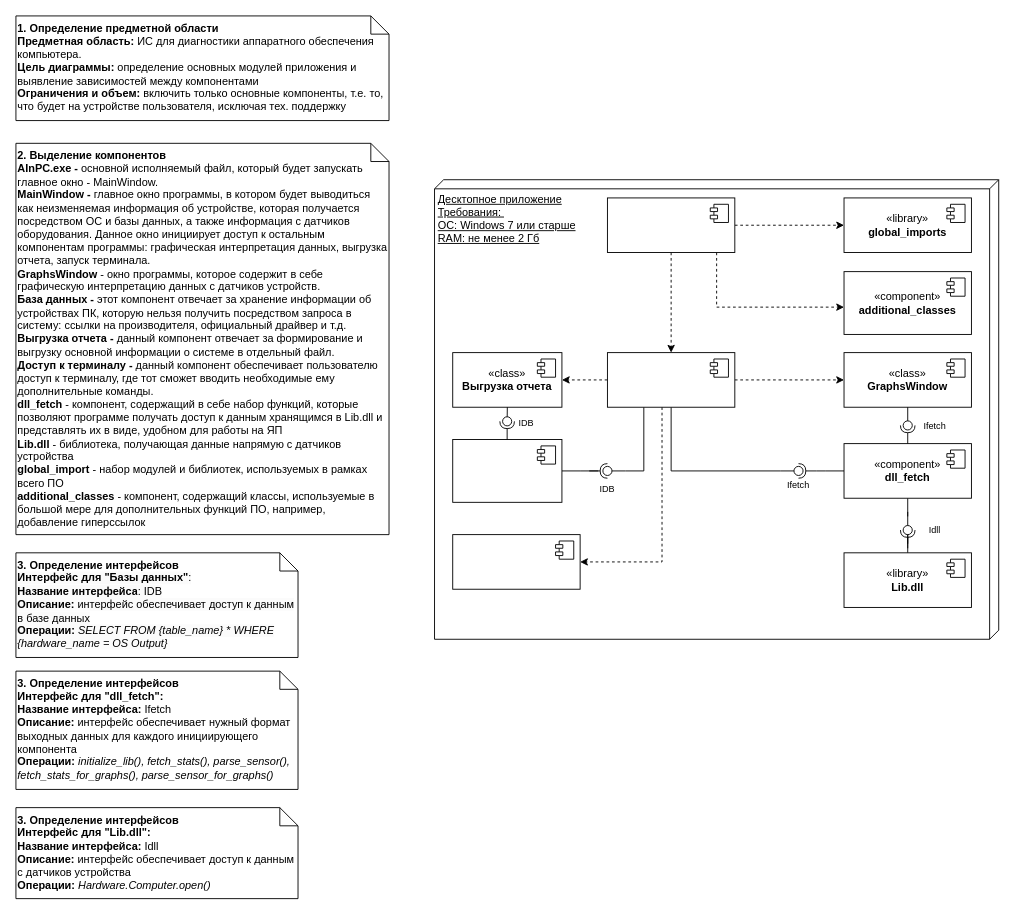
The diagram is 1015 pixels wide and 915 high, and some of its shapes have lost their labels. The shapes that lost their labels are listed below. From the top down, each one's centre as x and y in pixels, then its label:
At pixel 671 225: "«executable» AInPC.exe".
At pixel 671 379: "«class» MainWindow".
At pixel 507 470: "«component» База данных".
At pixel 516 561: "«class» Доступ к терминалу".
